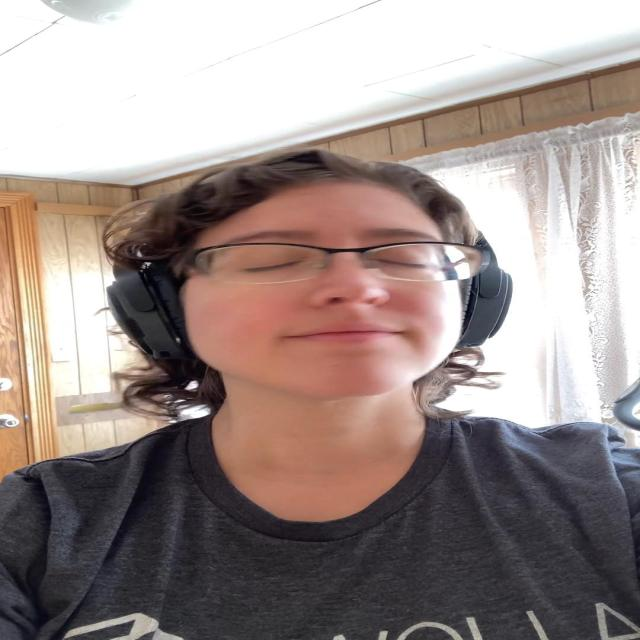no-helmet: (177, 178, 470, 398)
